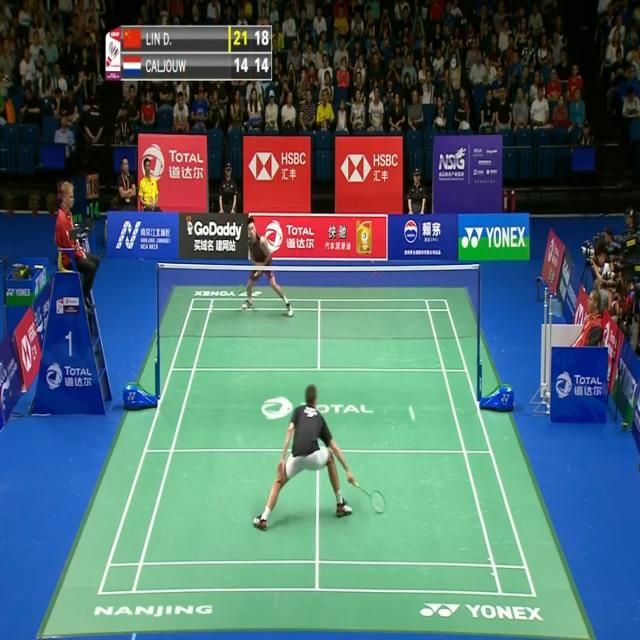Player1: (247, 371, 393, 541)
Player2: (238, 210, 298, 324)
